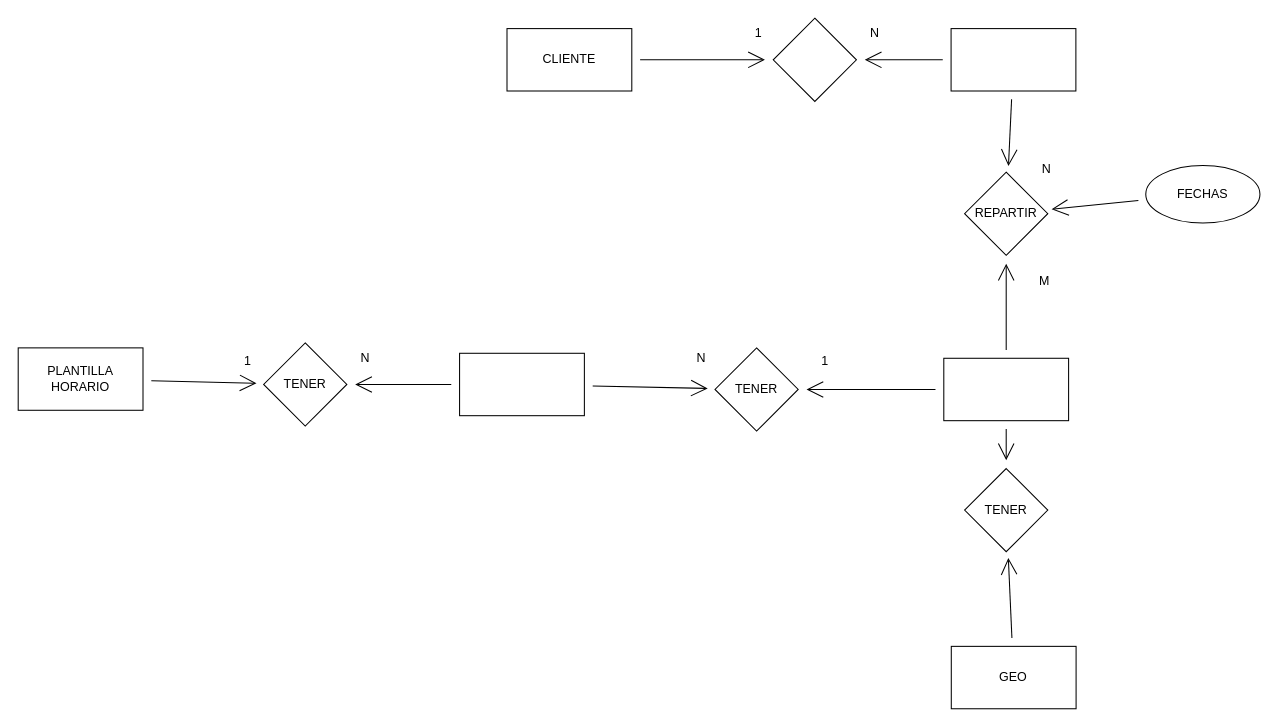
This 1278x727 diagram has some shape labels left out. Each missing label, with the centre of its shape:
"GENERA" belongs at (x=814, y=59).
"HORARIO" belongs at (x=521, y=384).
"REP" belongs at (x=1006, y=389).
"VENTA" belongs at (x=1013, y=59).
